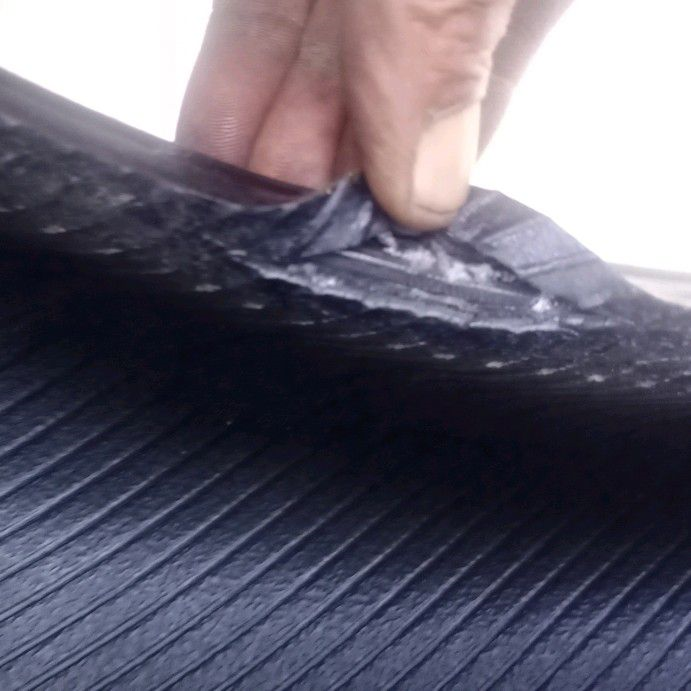bead_damage: (179, 157, 689, 391)
